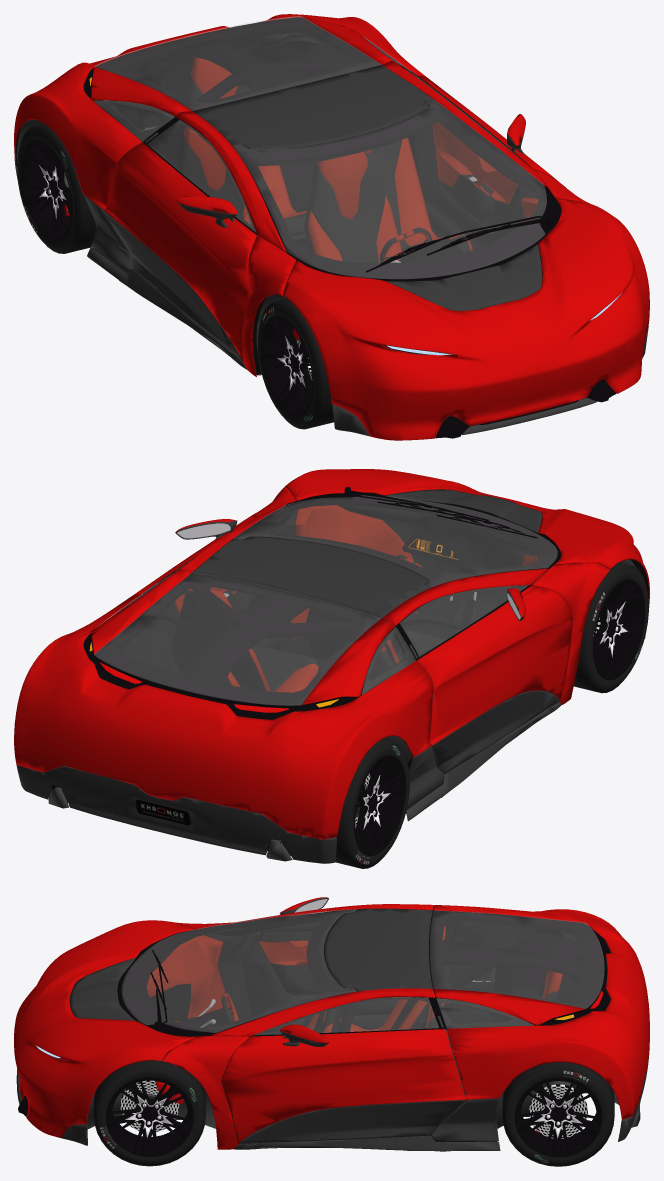
The model's file is ext_concept_coupe.glb.
The picture shows the model from 3 angles, top to bottom: view 1: azimuth 30°, elevation 25°; view 2: azimuth 150°, elevation 25°; view 3: azimuth 270°, elevation 25°; orthographic projection. The views are drawn at different scales.
Visible parts, largest first — view 1: BodyHood, BodyWindshield, BodyRearwindow, BodyDoorRColor1, BodyRearPanelsColor1, BodyRoofPanel, BodyWindshieldGasket, InteriorSeatsColor1, InteriorSeatsColor2, BodyPillars, InteriorPillar, InteriorRearHatch (+21 smaller); view 2: BodyRearPanelsColor1, BodyRearwindow, BodyWindshield, BodyDoorRColor1, BodyPanelsColor2, BodyRoofPanel, BodyHood, InteriorRearHatch, BodyPillars, InteriorPillar, InteriorDashMid, BodyWindshieldGasket (+22 smaller); view 3: BodyRearPanelsColor1, BodyWindshield, BodyDoorLColor1, BodyHood, BodyRearwindow, BodyRoofPanel, BodyPillars, BodyWindshieldGasket, BodyDoorLColor2, BodyPanelsColor2, InteriorRearHatch, WheelFrontLRim (+25 smaller).
Part boxes in pixels (x1,y1,x2,y2): BodyHood: (282, 197, 649, 440); BodyWindshield: (233, 98, 546, 278); BodyRearwindow: (94, 16, 380, 110); BodyDoorRColor1: (104, 142, 256, 361); BodyRearPanelsColor1: (14, 14, 427, 209); BodyRoofPanel: (192, 65, 430, 149); BodyWindshieldGasket: (233, 99, 561, 281); InteriorSeatsColor1: (184, 57, 472, 263); InteriorSeatsColor2: (179, 77, 469, 263); BodyPillars: (175, 61, 597, 376); InteriorPillar: (157, 37, 432, 167); InteriorRearHatch: (93, 17, 381, 117); BodyRearPanelsColor1: (14, 569, 433, 839); BodyRearwindow: (94, 572, 380, 705); BodyWindshield: (233, 495, 557, 586); BodyDoorRColor1: (416, 585, 572, 745); BodyPanelsColor2: (16, 635, 645, 863); BodyRoofPanel: (192, 536, 430, 618); BodyHood: (283, 469, 649, 607); InteriorRearHatch: (95, 573, 394, 710); BodyPillars: (178, 487, 609, 704); InteriorPillar: (177, 574, 425, 684); InteriorDashMid: (337, 501, 538, 623); BodyWindshieldGasket: (234, 495, 561, 587); BodyRearPanelsColor1: (434, 905, 649, 1119); BodyWindshield: (122, 909, 356, 1032); BodyDoorLColor1: (221, 1029, 465, 1144); BodyHood: (14, 920, 195, 1137); BodyRearwindow: (430, 910, 604, 1008); BodyRoofPanel: (324, 908, 432, 991); BodyPillars: (162, 904, 435, 1149); BodyWindshieldGasket: (117, 910, 356, 1036); BodyDoorLColor2: (239, 1100, 465, 1144); BodyPanelsColor2: (16, 1050, 649, 1151); InteriorRearHatch: (430, 910, 603, 1025); WheelFrontLRim: (106, 1077, 193, 1156).
Bounding box in the file's own units: 2.44 × 1.2 × 4.55.
23 materials, 6 textured.
